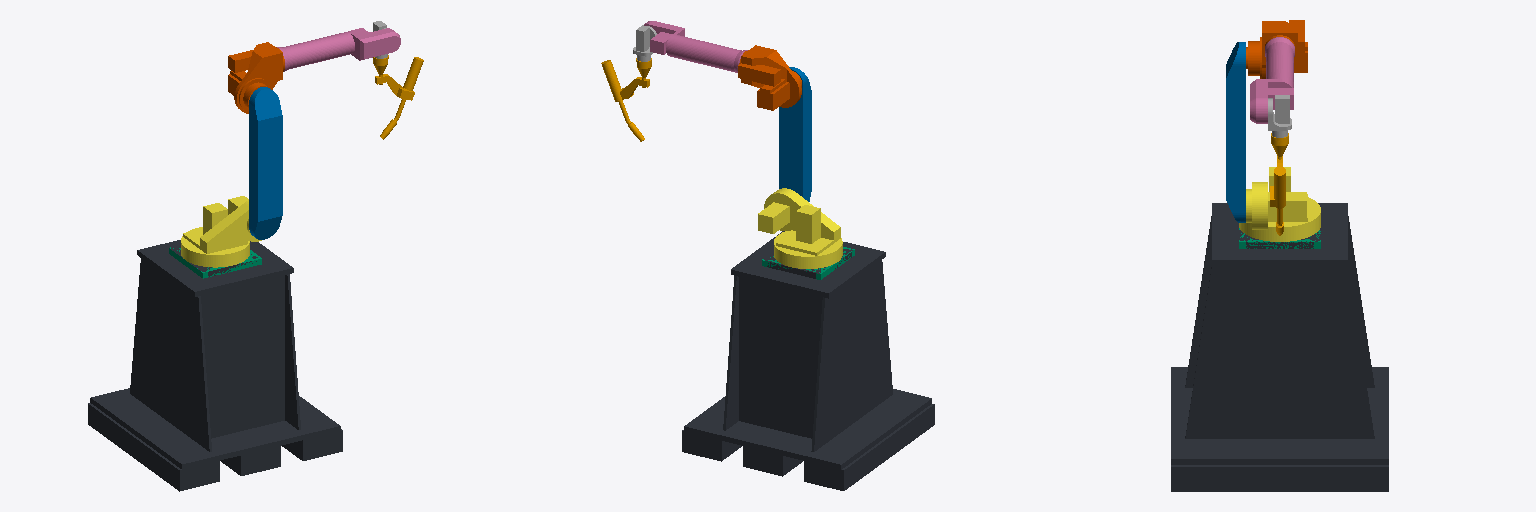
URDF robot description (rosie_1430_v1):
<?xml version='1.0' encoding='utf-8'?>
<robot name="rosie_1430_v1">
  <link name="world" />
  <link name="pedestal">
    <visual>
      <origin xyz="0 0 0" rpy="0 0 0" />
      <geometry>
        <mesh filename="package://rosie_1430_v1/meshes/pedestal.dae" />
      </geometry>
    </visual>
    <collision>
      <origin xyz="0 0 0" rpy="0 0 0" />
      <geometry>
        <mesh filename="package://rosie_1430_v1/meshes/pedestal.dae" />
      </geometry>
    </collision>
  </link>
  <link name="base">
    <visual>
      <origin xyz="0 0 0" rpy="0 0 0" />
      <geometry>
        <mesh filename="package://rosie_1430_v1/meshes/base.dae" />
      </geometry>
    </visual>
    <collision>
      <origin xyz="0 0 0" rpy="0 0 0" />
      <geometry>
        <mesh filename="package://rosie_1430_v1/meshes/base.dae" />
      </geometry>
    </collision>
  </link>
  <link name="link_1">
    <visual>
      <origin xyz="0 0 0" rpy="0 0 0" />
      <geometry>
        <mesh filename="package://rosie_1430_v1/meshes/link_1.dae" />
      </geometry>
    </visual>
    <collision>
      <origin xyz="0 0 0" rpy="0 0 0" />
      <geometry>
        <mesh filename="package://rosie_1430_v1/meshes/link_1.dae" />
      </geometry>
    </collision>
  </link>
  <link name="link_2">
    <visual>
      <origin xyz="0 0 0" rpy="0 0 0" />
      <geometry>
        <mesh filename="package://rosie_1430_v1/meshes/link_2.dae" />
      </geometry>
    </visual>
    <collision>
      <origin xyz="0 0 0" rpy="0 0 0" />
      <geometry>
        <mesh filename="package://rosie_1430_v1/meshes/link_2.dae" />
      </geometry>
    </collision>
  </link>
  <link name="link_3">
    <visual>
      <origin xyz="0 0 0" rpy="0 0 0" />
      <geometry>
        <mesh filename="package://rosie_1430_v1/meshes/link_3.dae" />
      </geometry>
    </visual>
    <collision>
      <origin xyz="0 0 0" rpy="0 0 0" />
      <geometry>
        <mesh filename="package://rosie_1430_v1/meshes/link_3.dae" />
      </geometry>
    </collision>
  </link>
  <link name="link_4">
    <visual>
      <origin xyz="0 0 0" rpy="0 0 0" />
      <geometry>
        <mesh filename="package://rosie_1430_v1/meshes/link_4.dae" />
      </geometry>
    </visual>
    <collision>
      <origin xyz="0 0 0" rpy="0 0 0" />
      <geometry>
        <mesh filename="package://rosie_1430_v1/meshes/link_4.dae" />
      </geometry>
    </collision>
  </link>
  <link name="link_5">
    <visual>
      <origin xyz="0 0 0" rpy="0 0 0" />
      <geometry>
        <mesh filename="package://rosie_1430_v1/meshes/link_5.dae" />
      </geometry>
    </visual>
    <collision>
      <origin xyz="0 0 0" rpy="0 0 0" />
      <geometry>
        <mesh filename="package://rosie_1430_v1/meshes/link_5.dae" />
      </geometry>
    </collision>
  </link>
  <link name="link_6">
    <visual>
      <origin xyz="0 0 0" rpy="0 0 0" />
      <geometry>
        <mesh filename="package://rosie_1430_v1/meshes/link_6.dae" />
      </geometry>
    </visual>
    <collision>
      <origin xyz="0 0 0" rpy="0 0 0" />
      <geometry>
        <mesh filename="package://rosie_1430_v1/meshes/link_6.dae" />
      </geometry>
    </collision>
  </link>
  <joint name="world_to_pedestal" type="fixed">
    <parent link="world" />
    <child link="pedestal" />
    <origin xyz="0 0 0" rpy="0 0 0" />
  </joint>
  <joint name="pedestal_to_base" type="fixed">
    <parent link="pedestal" />
    <child link="base" />
    <origin xyz="0.4127 0.4 0.8636" rpy="0 0 0" />
  </joint>
  <joint name="J1" type="revolute">
    <parent link="base" />
    <child link="link_1" />
    <origin xyz="-0 -0 0.0294" rpy="0 0 0" />
    <axis xyz="0 0 1" />
    <calibration rising="0" />
    <limit lower="-3.1000000000000001" upper="3.1000000000000001" effort="100" velocity="1.3962634015954636"/>
  </joint>
  <joint name="J2" type="revolute">
    <parent link="link_1" />
    <child link="link_2" />
    <origin xyz="0.16 -0.1255 0.15" rpy="0 0 0" />
    <axis xyz="0 -1 0" />
    <calibration rising="0" />
    <limit lower="-1.8999999999999999" upper="1.8999999999999999" effort="100" velocity="1.3962634015954636"/>
  </joint>
  <joint name="J3" type="revolute">
    <parent link="link_2" />
    <child link="link_3" />
    <origin xyz="0 0 0.6" rpy="0 0 0" />
    <axis xyz="0 1 0" />
    <calibration rising="0" />
    <limit lower="-2.6000000000000001" upper="2.6000000000000001" effort="100" velocity="1.3962634015954636"/>
  </joint>
  <joint name="J4" type="revolute">
    <parent link="link_3" />
    <child link="link_4" />
    <origin xyz="0.159 0.1255 0.105" rpy="0 0 0" />
    <axis xyz="1 0 0" />
    <calibration rising="0" />
    <limit lower="-3.1000000000000001" upper="3.1000000000000001" effort="50" velocity="1.3962634015954636"/>
  </joint>
  <joint name="J5" type="revolute">
    <parent link="link_4" />
    <child link="link_5" />
    <origin xyz="0.5147 -0.0425 0" rpy="0 0 0" />
    <axis xyz="0 1 0" />
    <calibration rising="0" />
    <limit lower="-2.2000000000000002" upper="2.2000000000000002" effort="50" velocity="1.3962634015954636"/>
  </joint>
  <joint name="J6" type="revolute">
    <parent link="link_5" />
    <child link="link_6" />
    <origin xyz="0 0.0425 -0.0993" rpy="0 0 0" />
    <axis xyz="0 0 -1" />
    <calibration rising="0" />
    <limit lower="-3.1000000000000001" upper="3.1000000000000001" effort="25" velocity="1.3962634015954636"/>
  </joint>
  <link name="end_effector">
    </link>
  <link name="tool0" />
  <joint name="link_6_to_end_effector" type="fixed">
    <parent link="link_6" />
    <child link="end_effector" />
    <origin xyz="0.004682724 0 -0.398382724" rpy="3.141592654 0.785398163 -3.141592654" />
  </joint>
  <joint name="end_effector_to_tool0" type="fixed">
    <parent link="end_effector" />
    <child link="tool0" />
    <origin xyz="0 0 0" rpy="0 0 0" />
  </joint>
  <transmission name="J1_transmission">
    <type>transmission_interface/SimpleTransmission</type>
    <joint name="J1">
      <hardwareInterface>hardware_interface/PositionJointInterface</hardwareInterface>
    </joint>
    <actuator name="J1_motor">
      <hardwareInterface>hardware_interface/PositionJointInterface</hardwareInterface>
      <mechanicalReduction numerator="100" denominator="1">100</mechanicalReduction>
    </actuator>
  </transmission>
  <transmission name="J2_transmission">
    <type>transmission_interface/SimpleTransmission</type>
    <joint name="J2">
      <hardwareInterface>hardware_interface/PositionJointInterface</hardwareInterface>
    </joint>
    <actuator name="J2_motor">
      <hardwareInterface>hardware_interface/PositionJointInterface</hardwareInterface>
      <mechanicalReduction numerator="100" denominator="1">100</mechanicalReduction>
    </actuator>
  </transmission>
  <transmission name="J3_transmission">
    <type>transmission_interface/SimpleTransmission</type>
    <joint name="J3">
      <hardwareInterface>hardware_interface/PositionJointInterface</hardwareInterface>
    </joint>
    <actuator name="J3_motor">
      <hardwareInterface>hardware_interface/PositionJointInterface</hardwareInterface>
      <mechanicalReduction numerator="100" denominator="1">100</mechanicalReduction>
    </actuator>
  </transmission>
  <transmission name="J4_transmission">
    <type>transmission_interface/SimpleTransmission</type>
    <joint name="J4">
      <hardwareInterface>hardware_interface/PositionJointInterface</hardwareInterface>
    </joint>
    <actuator name="J4_motor">
      <hardwareInterface>hardware_interface/PositionJointInterface</hardwareInterface>
      <mechanicalReduction numerator="18" denominator="1">18</mechanicalReduction>
    </actuator>
  </transmission>
  <transmission name="J5_transmission">
    <type>transmission_interface/SimpleTransmission</type>
    <joint name="J5">
      <hardwareInterface>hardware_interface/PositionJointInterface</hardwareInterface>
    </joint>
    <actuator name="J5_motor">
      <hardwareInterface>hardware_interface/PositionJointInterface</hardwareInterface>
      <mechanicalReduction numerator="100" denominator="1">100</mechanicalReduction>
    </actuator>
  </transmission>
  <transmission name="J6_transmission">
    <type>transmission_interface/SimpleTransmission</type>
    <joint name="J6">
      <hardwareInterface>hardware_interface/PositionJointInterface</hardwareInterface>
    </joint>
    <actuator name="J6_motor">
      <hardwareInterface>hardware_interface/PositionJointInterface</hardwareInterface>
      <mechanicalReduction numerator="100" denominator="1">100</mechanicalReduction>
    </actuator>
  </transmission>
</robot>

--- Facts derived from the render (not from the file) ---
The picture shows the robot from 3 angles, left to right: view 1: azimuth 30°, elevation 25°; view 2: azimuth 150°, elevation 25°; view 3: azimuth 270°, elevation 25°; orthographic projection.
Model rosie_1430_v1 with 11 links and 10 joints (6 revolute, 4 fixed), rooted at world, posed every joint at zero.
Links seen in each view (by area): view 1: pedestal, link_2, link_1, link_4, link_3, link_6, base; view 2: pedestal, link_1, link_2, link_3, link_4, link_6, link_5; view 3: pedestal, link_1, link_2, link_4, link_3, link_6, link_5.
Link boxes in pixels (box(x1,y1,x2,y2)): pedestal: box(88, 240, 342, 491); link_2: box(249, 87, 282, 239); link_1: box(181, 196, 261, 267); link_4: box(277, 28, 400, 71); link_3: box(228, 42, 284, 113); link_6: box(373, 55, 423, 139); base: box(169, 247, 261, 278); pedestal: box(682, 231, 934, 490); link_1: box(758, 188, 842, 268); link_2: box(779, 67, 811, 201); link_3: box(738, 45, 801, 110); link_4: box(644, 21, 747, 72); link_6: box(601, 58, 651, 141); link_5: box(633, 25, 656, 61); pedestal: box(1171, 203, 1388, 491); link_1: box(1239, 167, 1320, 241); link_2: box(1226, 42, 1245, 222); link_4: box(1250, 37, 1294, 123); link_3: box(1246, 20, 1307, 78); link_6: box(1270, 133, 1288, 235); link_5: box(1268, 95, 1291, 137).
Bounding box of the posed robot: 1.46 × 0.8 × 1.81 m (x, y, z).
8 mesh visuals loaded from 8 distinct referenced files (8 Collada DAE).
